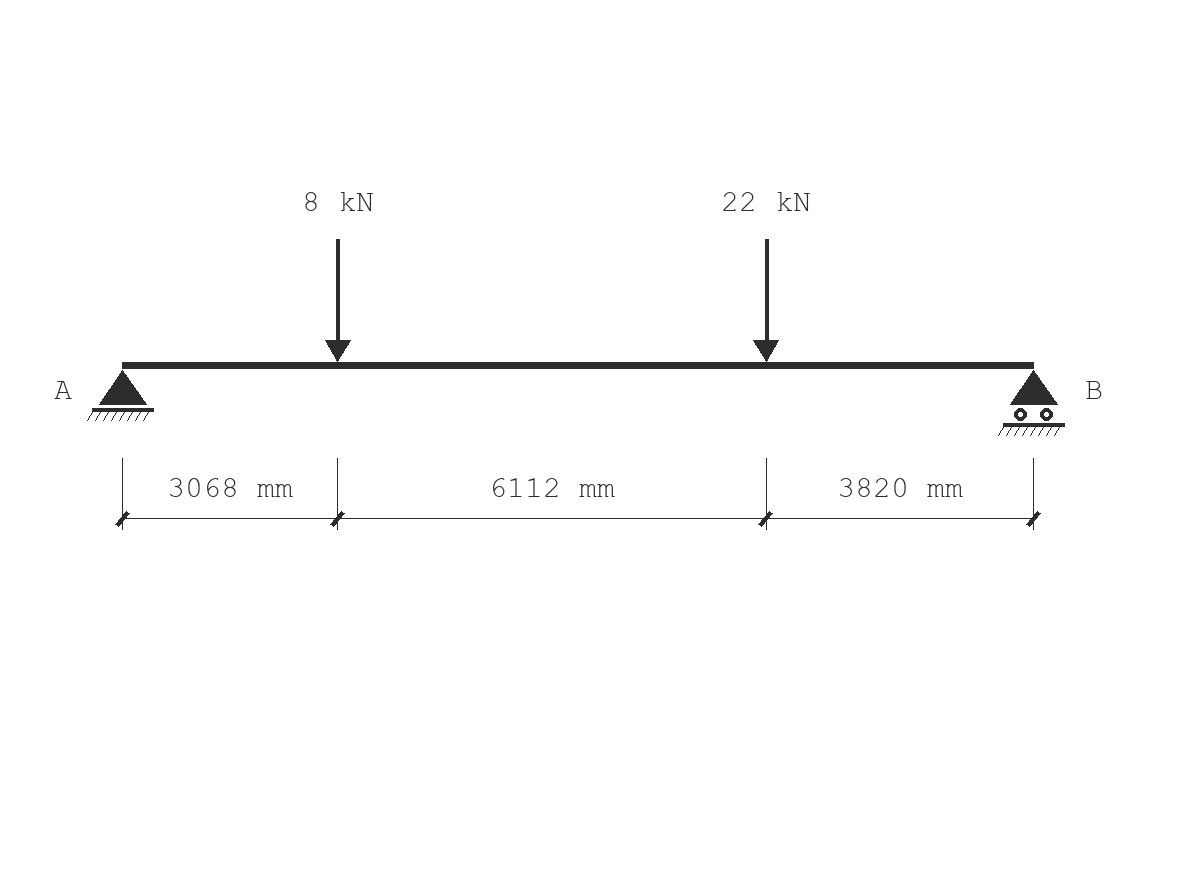pin_support: (87, 370, 154, 421)
point_load: (325, 239, 351, 362), (753, 239, 779, 362)
roller_support: (998, 370, 1065, 436)
